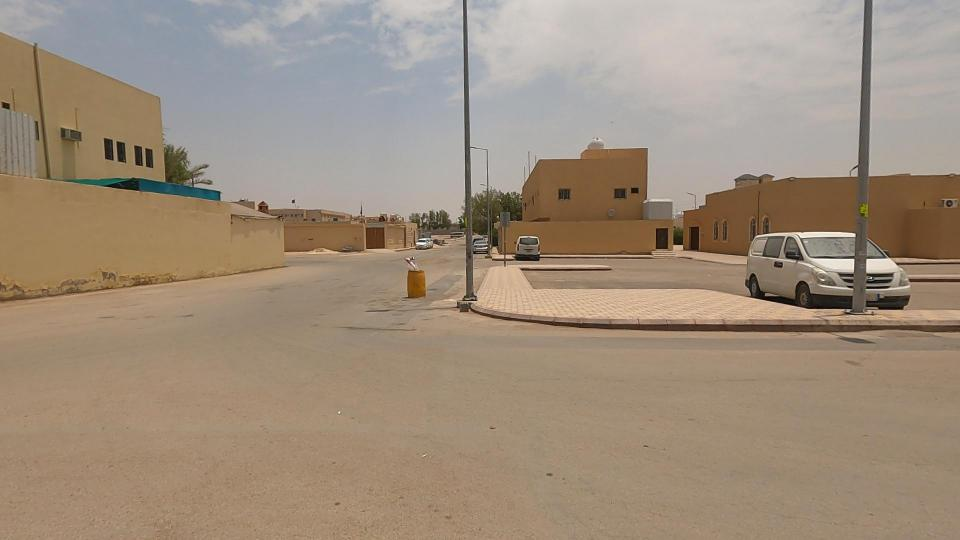GARBAGE: (358, 217, 458, 322)
